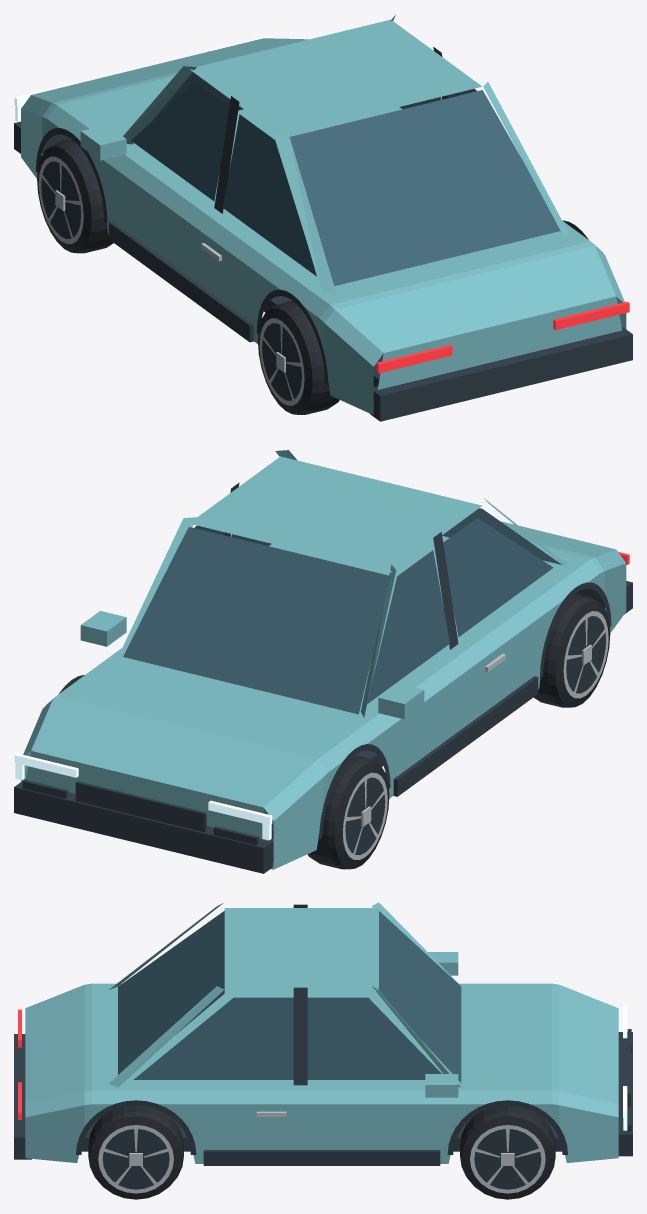
The model's file is luma_c.glb.
3 renders of one model, top to bottom at view 1: azimuth 30°, elevation 25°; view 2: azimuth 150°, elevation 25°; view 3: azimuth 270°, elevation 25°, orthographic. The views are drawn at different scales.
Parts seen in each view (by area): view 1: Body, Wheel_2, Wheel_0; view 2: Body, Wheel_0, Wheel_2; view 3: Body, Wheel_1, Wheel_3.
Part boxes in pixels (x1,y1,x2,y2): Body: [14, 15, 632, 421]; Wheel_2: [258, 301, 339, 414]; Wheel_0: [37, 139, 113, 253]; Body: [14, 450, 632, 873]; Wheel_0: [307, 755, 389, 869]; Wheel_2: [533, 593, 610, 707]; Body: [14, 902, 632, 1165]; Wheel_1: [460, 1105, 555, 1199]; Wheel_3: [88, 1105, 183, 1199].
Size of the model in its own units: 2.1 by 1.43 by 4.13.
